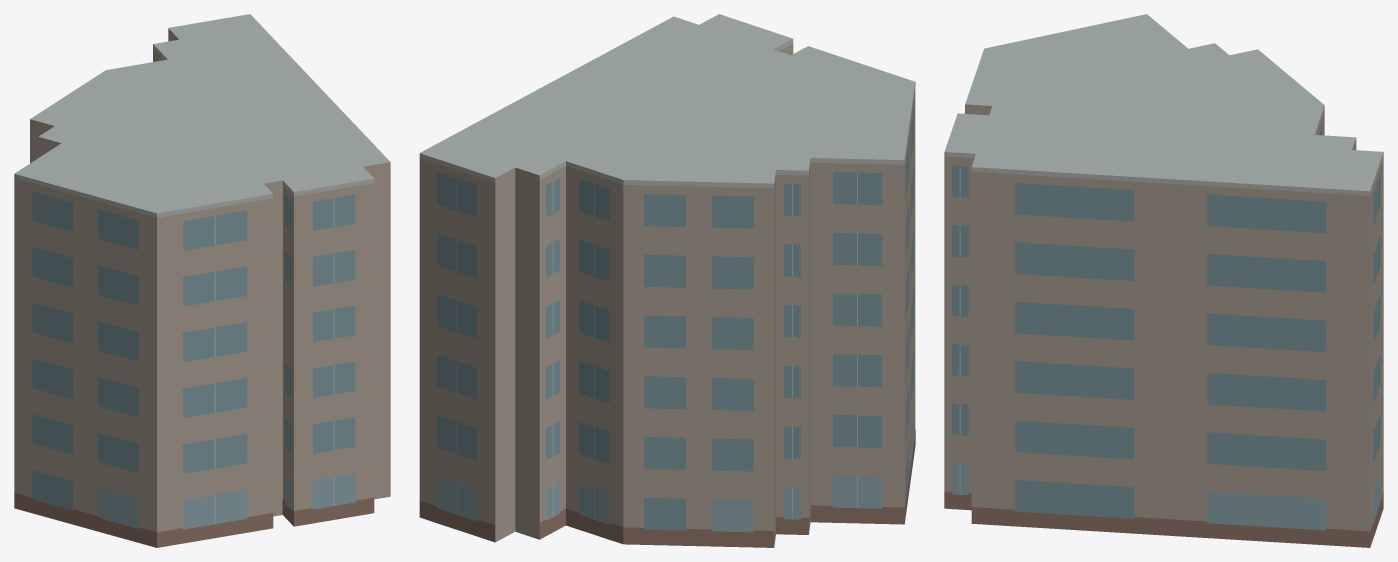
Rendered from survey-upis-32864651.glb.
The picture shows the model from 3 angles, left to right: view 1: azimuth 30°, elevation 25°; view 2: azimuth 150°, elevation 25°; view 3: azimuth 270°, elevation 25°; orthographic projection. The views are drawn at different scales.
Visible parts, largest first — view 1: survey-upis-32864651.tmp; view 2: survey-upis-32864651.tmp; view 3: survey-upis-32864651.tmp.
Part boxes in pixels (left/top/right/bottom): survey-upis-32864651.tmp: left=14, top=14, right=390, bottom=547; survey-upis-32864651.tmp: left=419, top=14, right=915, bottom=547; survey-upis-32864651.tmp: left=944, top=14, right=1383, bottom=547.
Size of the model in its own units: 19.94 by 18.7 by 20.88.
